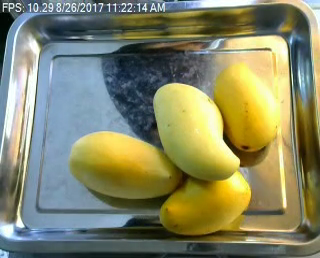Mango: (153, 83, 239, 179), (70, 132, 184, 197), (159, 168, 250, 239), (216, 60, 279, 151)
